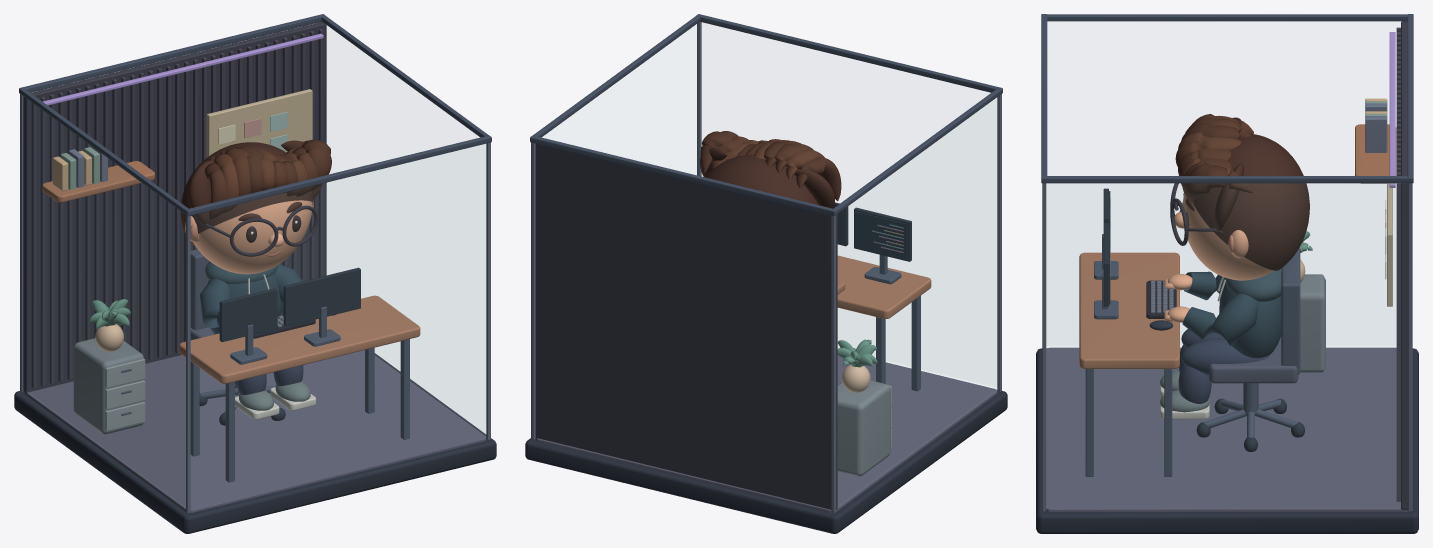
The picture shows the model from 3 angles, left to right: view 1: azimuth 30°, elevation 25°; view 2: azimuth 150°, elevation 25°; view 3: azimuth 270°, elevation 25°; orthographic projection. The views are drawn at different scales.
Visible parts, largest first — view 1: Floor, Rear acoustic wall, Acoustic rib (×20), Plinth, Walnut desktop, Monitor housing (×2), Upper lintel (×2), Face and jaw, Corner mullion (×3), Pinboard, Drawer cabinet, Steel desk leg (×4) (+16 smaller); view 2: Rear acoustic wall, Plinth, Floor, Corner mullion (×4), Upper lintel (×2), Drawer cabinet, Walnut desktop, Upper side rail (×2), Sculpted hair cap, Display, Steel desk leg (×2), Swept fringe 00 (+3 smaller); view 3: Floor, Plinth, Walnut desktop, Sculpted hair cap, Upper side rail (×2), Rear acoustic wall, Corner mullion (×2), Bent hoodie sleeve (×2), Drawer cabinet, Face and jaw, Upper lintel (×2), Backrest (+21 smaller).
Boxes of the visible parts, x1=… form: Floor: x1=24, y1=350, x2=486, y2=512; Rear acoustic wall: x1=23, y1=22, x2=326, y2=393; Acoustic rib (×20): x1=31, y1=28, x2=323, y2=388; Plinth: x1=14, y1=353, x2=496, y2=533; Walnut desktop: x1=179, y1=295, x2=420, y2=383; Monitor housing (×2): x1=219, y1=267, x2=360, y2=342; Upper lintel (×2): x1=19, y1=14, x2=491, y2=216; Face and jaw: x1=193, y1=200, x2=312, y2=274; Corner mullion (×3): x1=20, y1=94, x2=490, y2=513; Pinboard: x1=206, y1=89, x2=312, y2=157; Drawer cabinet: x1=73, y1=338, x2=144, y2=434; Steel desk leg (×4): x1=190, y1=339, x2=409, y2=482; Rear acoustic wall: x1=535, y1=143, x2=837, y2=509; Plinth: x1=525, y1=390, x2=1007, y2=533; Floor: x1=535, y1=355, x2=997, y2=512; Corner mullion (×4): x1=531, y1=22, x2=1001, y2=513; Upper lintel (×2): x1=530, y1=14, x2=1002, y2=216; Drawer cabinet: x1=837, y1=380, x2=890, y2=476; Walnut desktop: x1=837, y1=255, x2=931, y2=318; Upper side rail (×2): x1=533, y1=16, x2=1002, y2=215; Sculpted hair cap: x1=705, y1=154, x2=818, y2=204; Display: x1=854, y1=211, x2=907, y2=260; Steel desk leg (×2): x1=876, y1=296, x2=920, y2=391; Swept fringe 00: x1=796, y1=157, x2=841, y2=200; Floor: x1=1046, y1=347, x2=1408, y2=511; Plinth: x1=1036, y1=348, x2=1418, y2=533; Walnut desktop: x1=1079, y1=252, x2=1179, y2=368; Sculpted hair cap: x1=1193, y1=134, x2=1309, y2=270; Upper side rail (×2): x1=1042, y1=14, x2=1412, y2=183; Rear acoustic wall: x1=1401, y1=21, x2=1408, y2=510; Corner mullion (×2): x1=1042, y1=183, x2=1412, y2=511; Bent hoodie sleeve (×2): x1=1182, y1=271, x2=1258, y2=345; Drawer cabinet: x1=1300, y1=274, x2=1325, y2=372; Face and jaw: x1=1182, y1=193, x2=1273, y2=280; Upper lintel (×2): x1=1041, y1=14, x2=1413, y2=182; Backrest: x1=1281, y1=248, x2=1300, y2=374.
Bounding box in the file's own units: 2.9 × 2.85 × 2.78.
